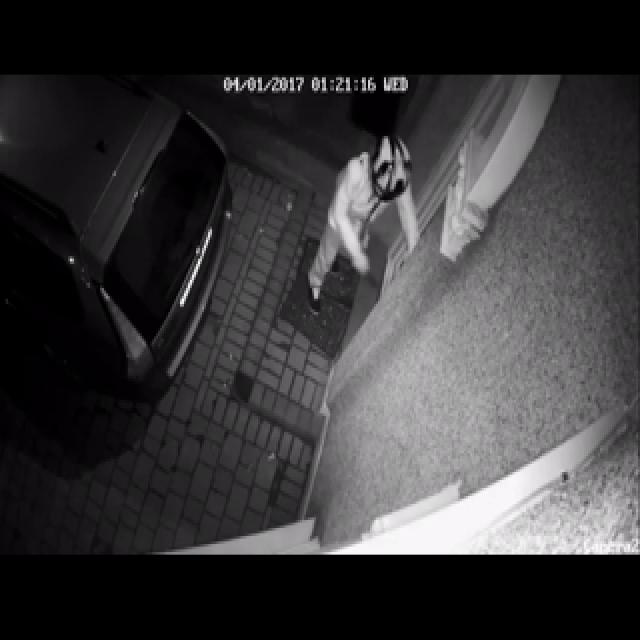burglary: (174, 0, 454, 384)
